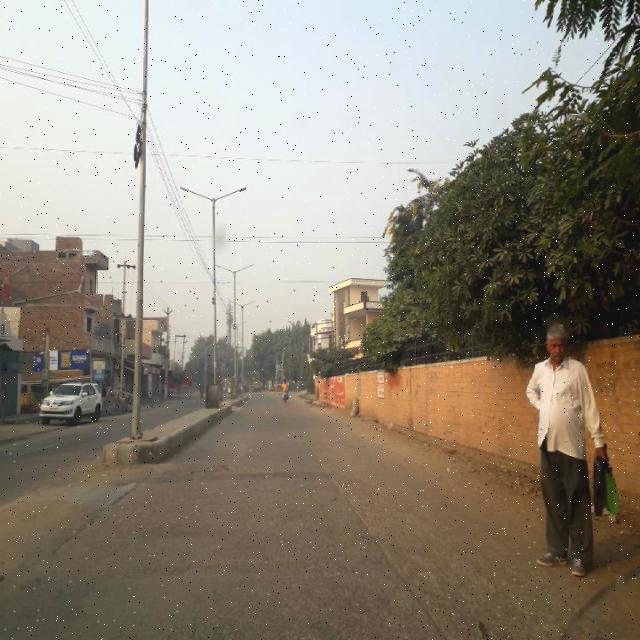D01: (18, 484, 137, 588), (372, 537, 452, 639), (294, 434, 374, 536)
